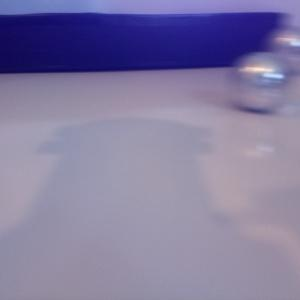zone: (1, 11, 282, 73)
